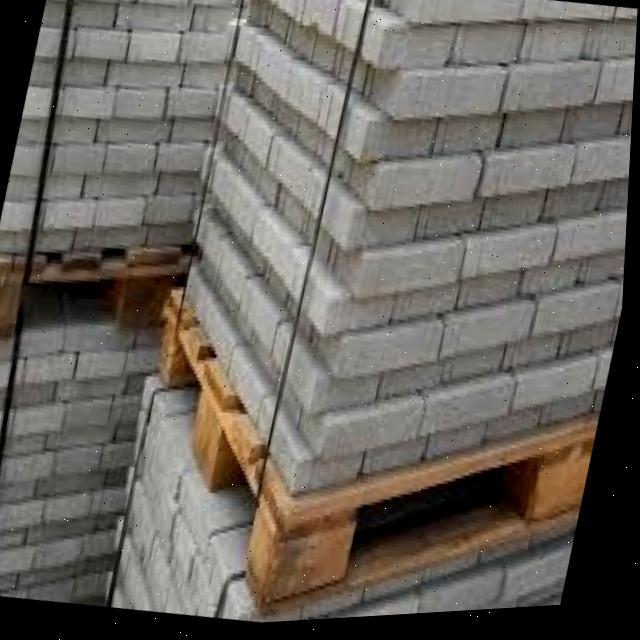bricks: (189, 0, 638, 486)
